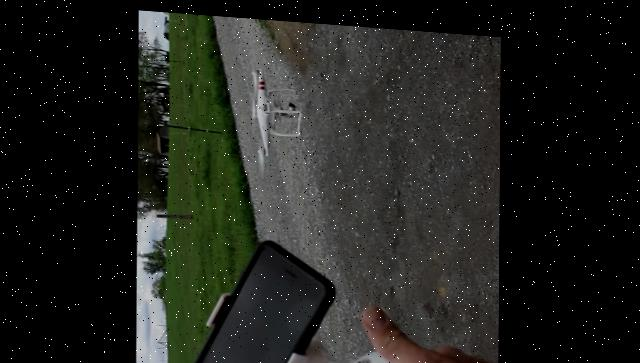drone: (249, 62, 303, 158)
